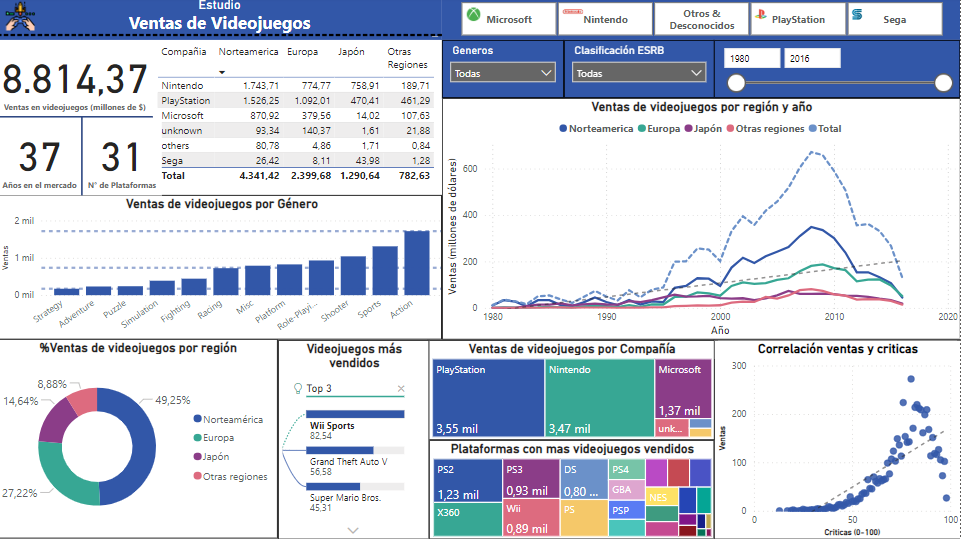

What the dashboard file says about the page in this screenshot:
{"tool":"powerbi","page":{"name":"Página 1","canvas":[1280,720],"ordinal":0},"visuals":[{"type":"lineChart","title":"Ventas de videojuegos por región y año","fields":{"Y":["Sum(Data.na_sales)","Sum(Data.eu_sales)","Sum(Data.jp_sales)","Sum(Data.other_sales)","Sum(Data.total_sales)"],"Category":["Data.year_of_release"]},"box":[591,134.3,688.7,320.6],"z":0},{"type":"donutChart","title":"%Ventas de videojuegos por región","fields":{"Y":["Sum(Data.na_sales)","Sum(Data.eu_sales)","Sum(Data.jp_sales)","Sum(Data.other_sales)"]},"box":[0,454.9,373.4,265.1],"z":1000},{"type":"tableEx","fields":{"Values":["Data.company","Data.na_sales","Data.eu_sales","Data.jp_sales","Data.other_sales"]},"box":[207.4,57.3,383.6,205.7],"z":2000},{"type":"clusteredColumnChart","title":"Ventas de videojuegos por Género","fields":{"Y":["Sum(Data.total_sales)"],"Category":["Data.genre"]},"box":[0,263,591,192.2],"z":3000},{"type":"slicer","fields":{"Values":["Data.company (grupos)"]},"box":[591,0,688.7,57.3],"z":4000},{"type":"treemap","title":"Ventas de videojuegos por Compañía","fields":{"Group":["Data.company"],"Values":["Sum(Data.total_sales)"]},"box":[572.3,455.1,381,132.7],"z":5000},{"type":"slicer","fields":{"Values":["Data.genre"]},"box":[591,57.3,162.1,77],"z":6000},{"type":"scatterChart","title":"Correlación ventas y criticas","fields":{"X":["Data.critic_score"],"Y":["Data.total_sales"]},"box":[952.5,455.1,327.5,264.6],"z":7000},{"type":"card","fields":{"Values":["Sum(Data.total_sales)"]},"box":[0,57.3,207.4,102.9],"z":8000},{"type":"slicer","fields":{"Values":["Data.year_of_release"]},"box":[952.8,57.3,326.9,77],"z":9000},{"type":"slicer","fields":{"Values":["Data.rating"]},"box":[753.1,57.3,199.7,77],"z":10000},{"type":"card","fields":{"Values":["Count(Data.year_of_release)"]},"box":[0,160.3,112.8,103],"z":11000},{"type":"card","fields":{"Values":["Count(Data.platform)"]},"box":[113,160.2,106.2,102.9],"z":12000},{"type":"textbox","title":"Estudio","box":[0,0,591,57.3],"z":13000},{"type":"treemap","title":"Plataformas con mas videojuegos vendidos","fields":{"Group":["Data.platform"],"Values":["Sum(Data.total_sales)"]},"box":[574.1,587.9,379.3,131.9],"z":14000},{"type":"decompositionTreeVisual","title":"Videojuegos más vendidos","fields":{"ExplainBy":["Data.name"],"Analyze":["Sum(Data.total_sales)"]},"box":[373.2,455.1,200.8,264.6],"z":15000},{"type":"shape","box":[0,145.9,207.4,26.1],"z":16000},{"type":"shape","box":[106.6,159.4,12.5,103.9],"z":17000},{"type":"image","box":[746,0,36.7,38.5],"z":18000},{"type":"image","box":[619.7,8.1,27.8,29.6],"z":19000},{"type":"image","box":[1002.1,6.3,26,31.3],"z":20000},{"type":"image","box":[1131,8.1,24.2,28.7],"z":21000},{"type":"image","box":[5.9,0,50.6,50.6],"z":21001}]}

Visuals, with their boxes in screenshot pixels (x1, y1, x2, y2), scaled from the page's 1280x720 canvas onto the 961x539 screenshot:
"Ventas de videojuegos por región y año" lineChart: x1=444 y1=101 x2=960 y2=341
"%Ventas de videojuegos por región" donutChart: x1=0 y1=341 x2=280 y2=538
tableEx - Data.company x Data.na_sales: x1=156 y1=43 x2=444 y2=197
"Ventas de videojuegos por Género" clusteredColumnChart: x1=0 y1=197 x2=444 y2=341
slicer - Data.company (grupos): x1=444 y1=0 x2=960 y2=43
"Ventas de videojuegos por Compañía" treemap: x1=430 y1=341 x2=716 y2=440
slicer - Data.genre: x1=444 y1=43 x2=565 y2=101
"Correlación ventas y criticas" scatterChart: x1=715 y1=341 x2=960 y2=538
card - Sum(Data.total_sales): x1=0 y1=43 x2=156 y2=120
slicer - Data.year_of_release: x1=715 y1=43 x2=960 y2=101
slicer - Data.rating: x1=565 y1=43 x2=715 y2=101
card - Count(Data.year_of_release): x1=0 y1=120 x2=85 y2=197
card - Count(Data.platform): x1=85 y1=120 x2=165 y2=197
"Estudio" textbox: x1=0 y1=0 x2=444 y2=43
"Plataformas con mas videojuegos vendidos" treemap: x1=431 y1=440 x2=716 y2=538
"Videojuegos más vendidos" decompositionTreeVisual: x1=280 y1=341 x2=431 y2=538
shape: x1=0 y1=109 x2=156 y2=129
shape: x1=80 y1=119 x2=89 y2=197
image: x1=560 y1=0 x2=588 y2=29
image: x1=465 y1=6 x2=486 y2=28
image: x1=752 y1=5 x2=772 y2=28
image: x1=849 y1=6 x2=867 y2=28
image: x1=4 y1=0 x2=42 y2=38
